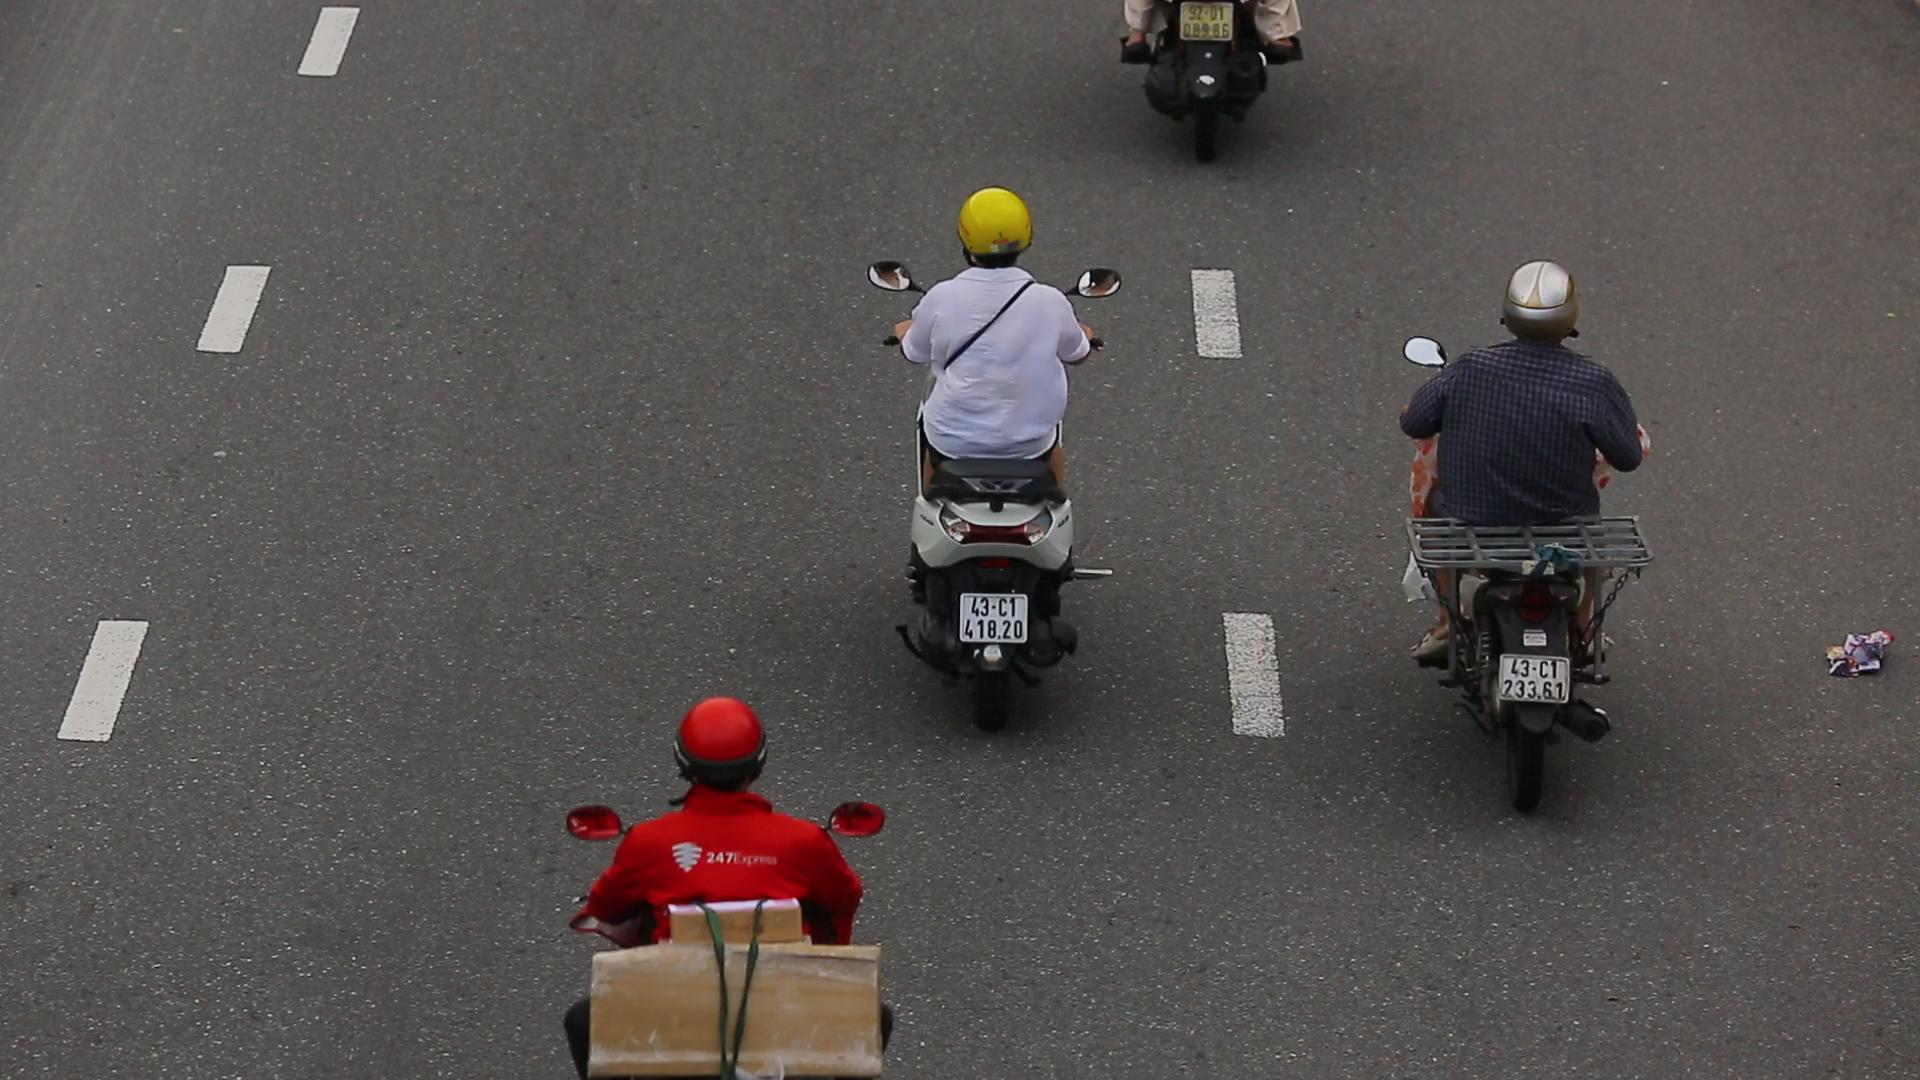motobike: (825, 174, 1158, 741), (1383, 218, 1663, 824)
